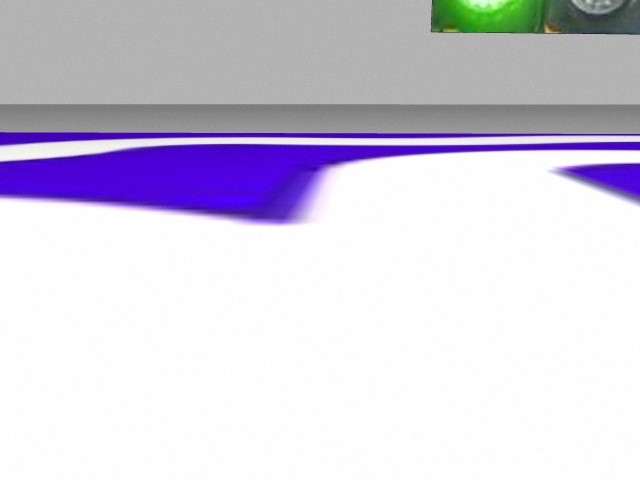green: (431, 1, 537, 31)
